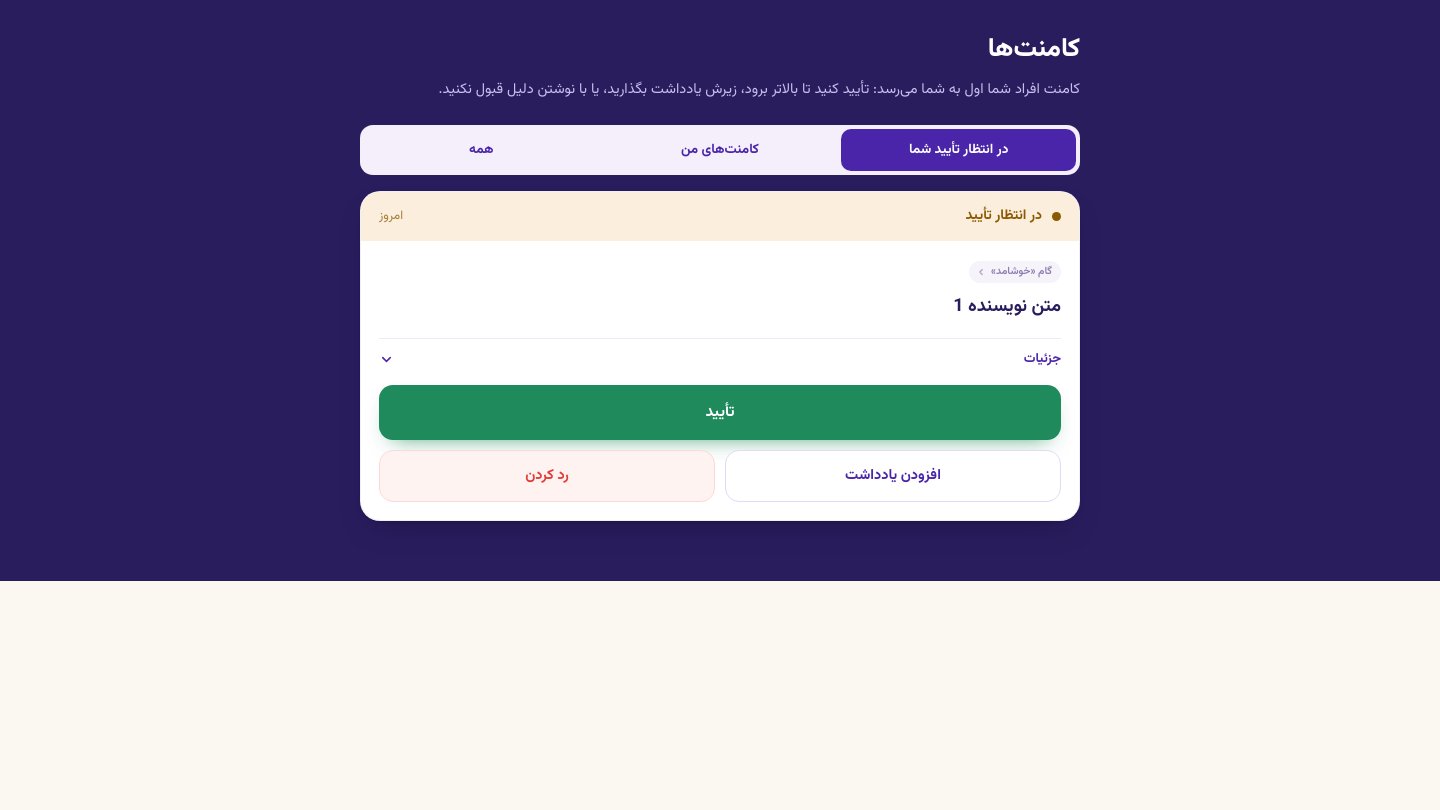
Scenario: reader inbox › refuses a rejection with no reason and posts nothing
Click the button "رد کردن" at (547, 476), box top-left (379, 450), bottom-right (715, 502)
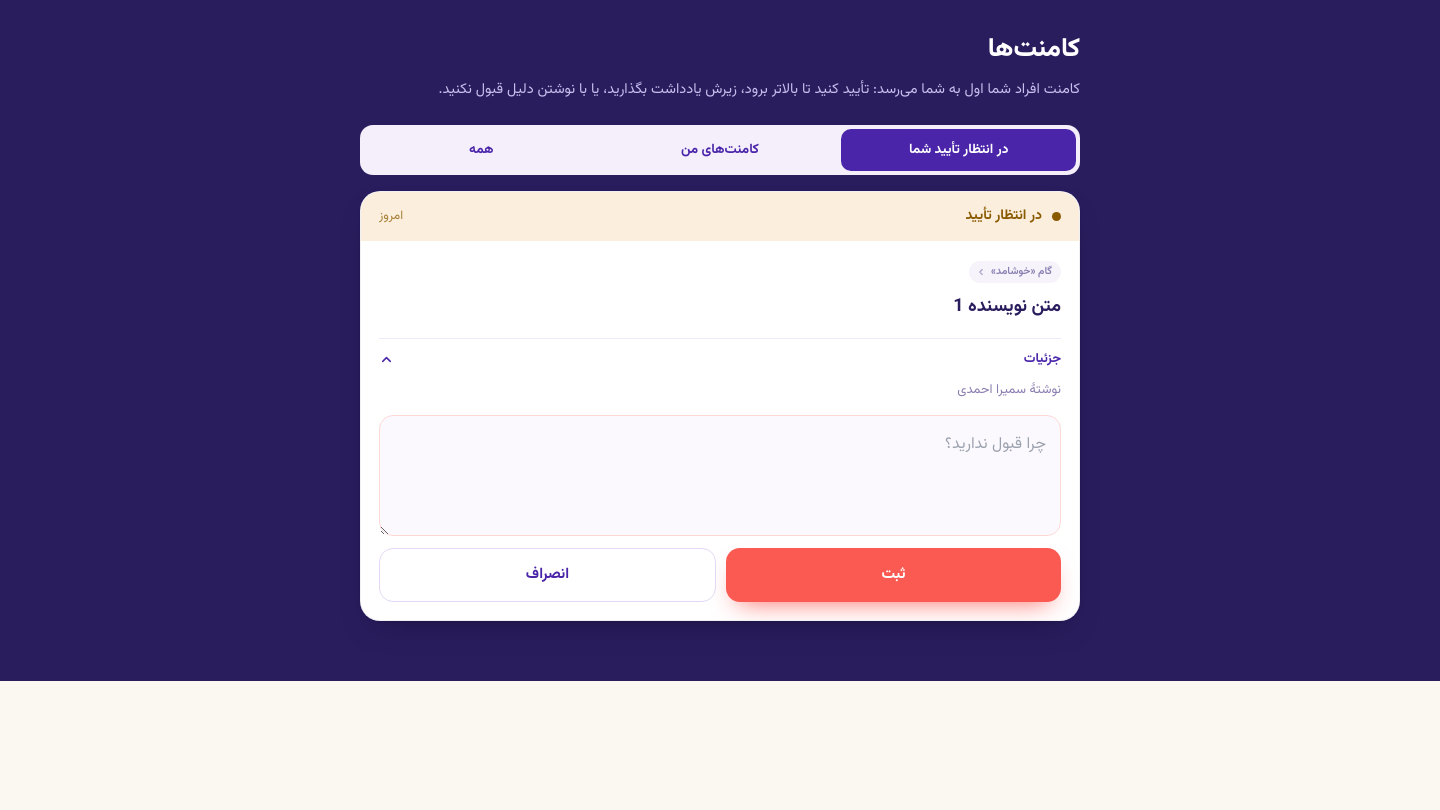
Click the button "ثبت" at (894, 575), box top-left (726, 548), bottom-right (1061, 602)
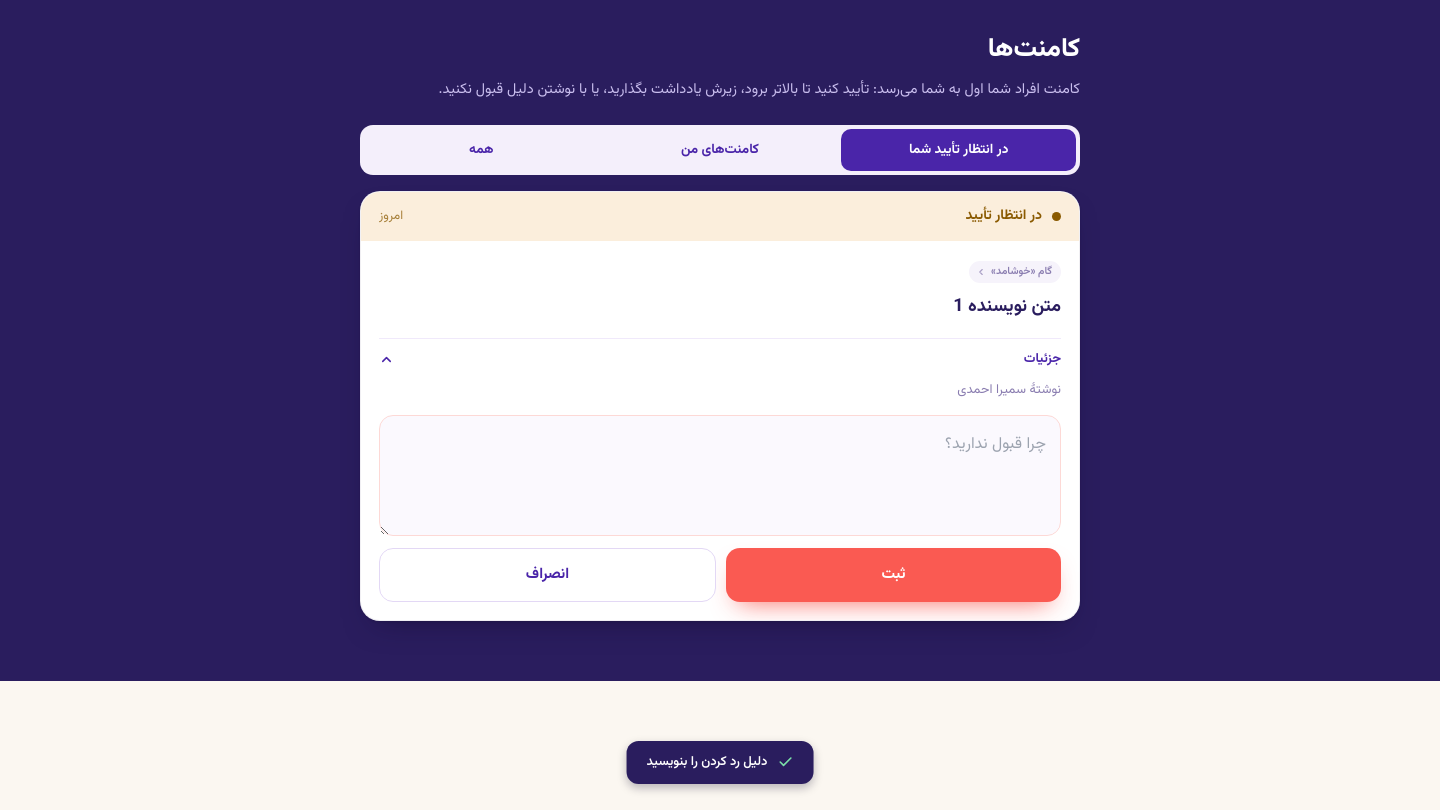
Expected: the text "دلیل رد کردن را بنویسید" is shown, top-left (626, 740), bottom-right (814, 784)
